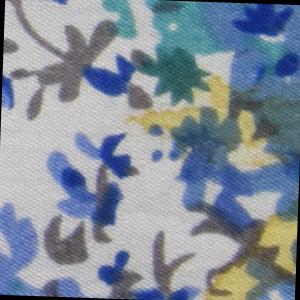Oil Stain: (119, 69, 300, 173), (201, 193, 299, 300)
